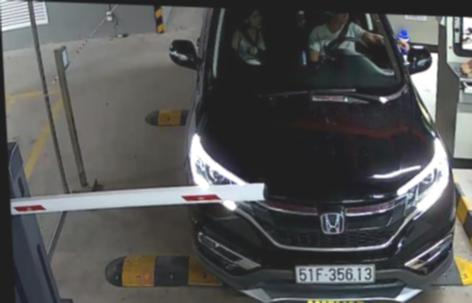License_Plate: (290, 258, 381, 287)
